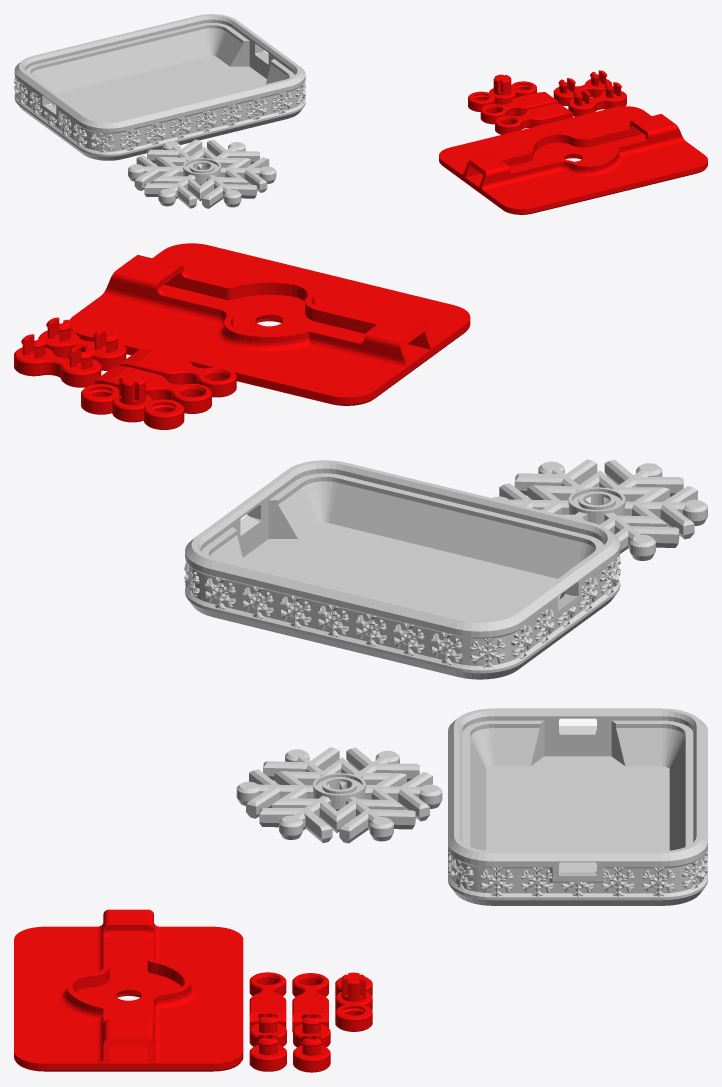
File: gift-card-box.glb
The picture shows the model from 3 angles, top to bottom: view 1: azimuth 30°, elevation 25°; view 2: azimuth 150°, elevation 25°; view 3: azimuth 270°, elevation 25°; orthographic projection. The views are drawn at different scales.
Parts seen in each view (by area): view 1: Assembly_fil1 (×2), Assembly_fil2 (×6); view 2: Assembly_fil1 (×2), Assembly_fil2 (×6); view 3: Assembly_fil1 (×2), Assembly_fil2 (×6).
Boxes of the visible parts, box(x1,y1,x2,y2) form: Assembly_fil1 (×2): box(14, 14, 306, 208); Assembly_fil2 (×6): box(439, 70, 707, 214); Assembly_fil1 (×2): box(184, 459, 707, 679); Assembly_fil2 (×6): box(14, 243, 470, 429); Assembly_fil1 (×2): box(236, 708, 707, 905); Assembly_fil2 (×6): box(14, 909, 372, 1072).
Size of the model in its own units: 0.2434 by 0.019 by 0.2269.
